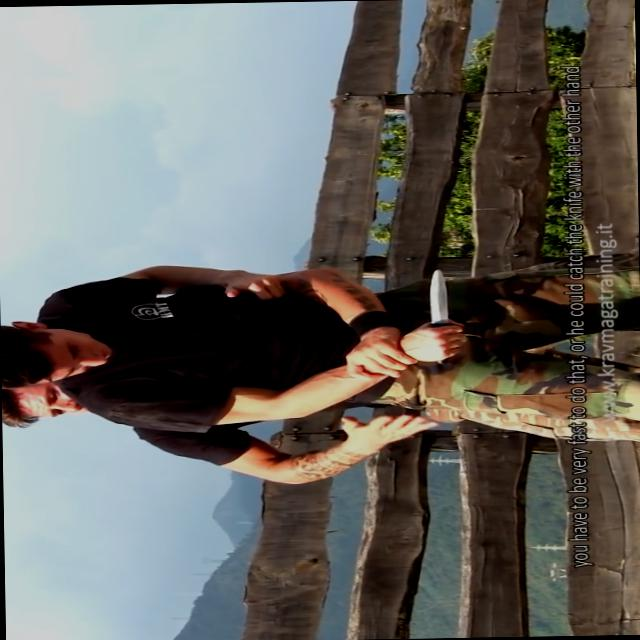knife: (405, 264, 464, 368)
